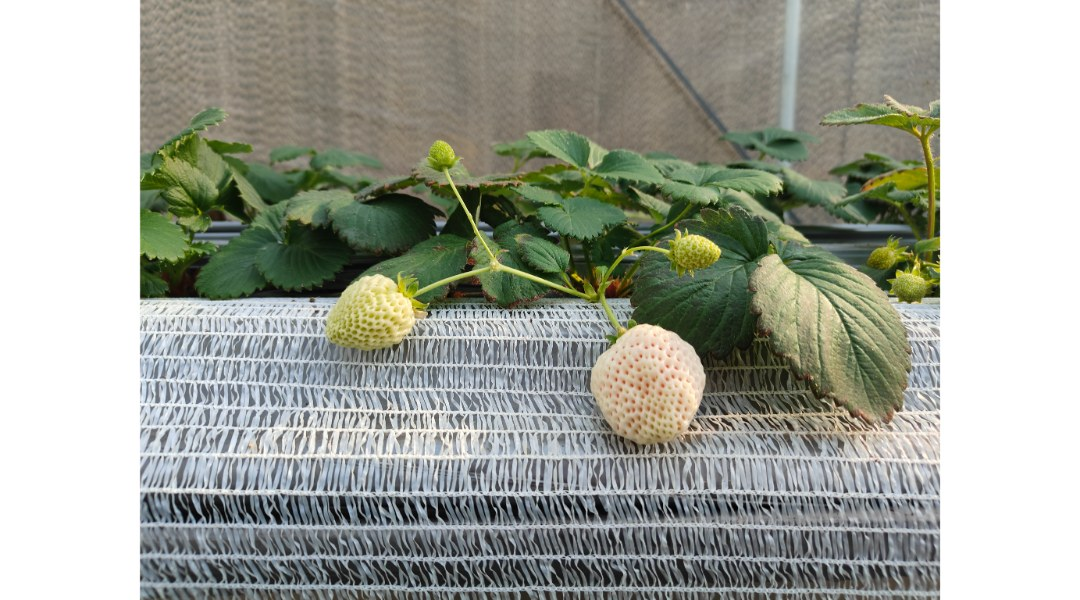berry: (594, 322, 708, 451), (306, 267, 433, 349), (665, 223, 729, 281), (418, 134, 463, 170)
strain: (496, 249, 580, 300), (410, 266, 482, 308), (445, 179, 482, 247)
